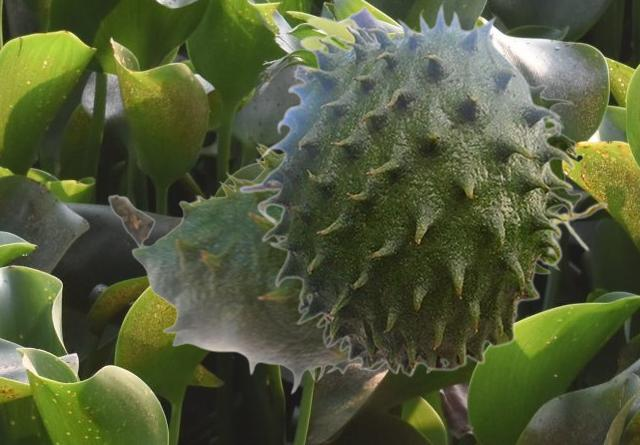guyabano: (107, 82, 583, 394), (238, 1, 608, 377)
